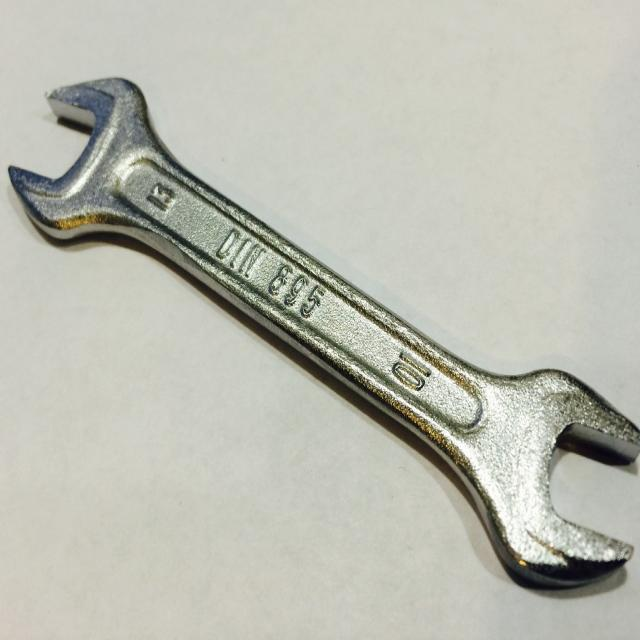wrench: (4, 72, 640, 586)
